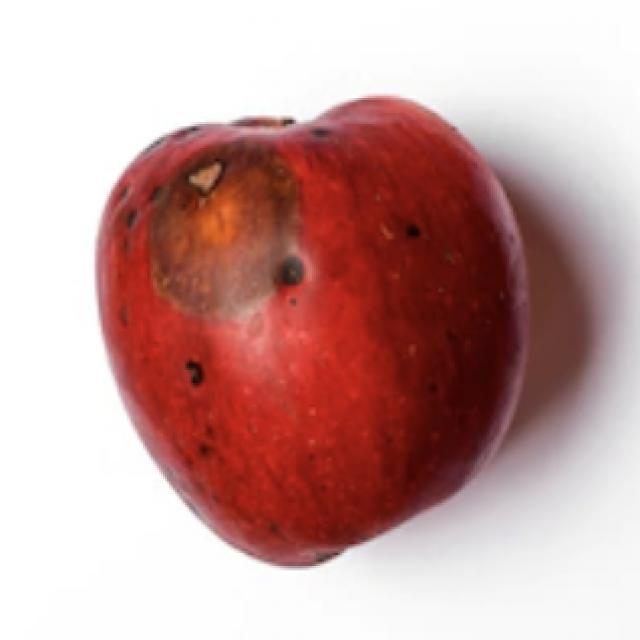Rotten: (88, 90, 540, 568)
